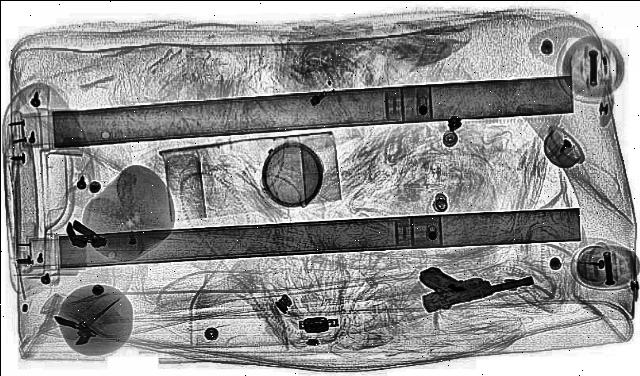Gun: (410, 260, 544, 312)
